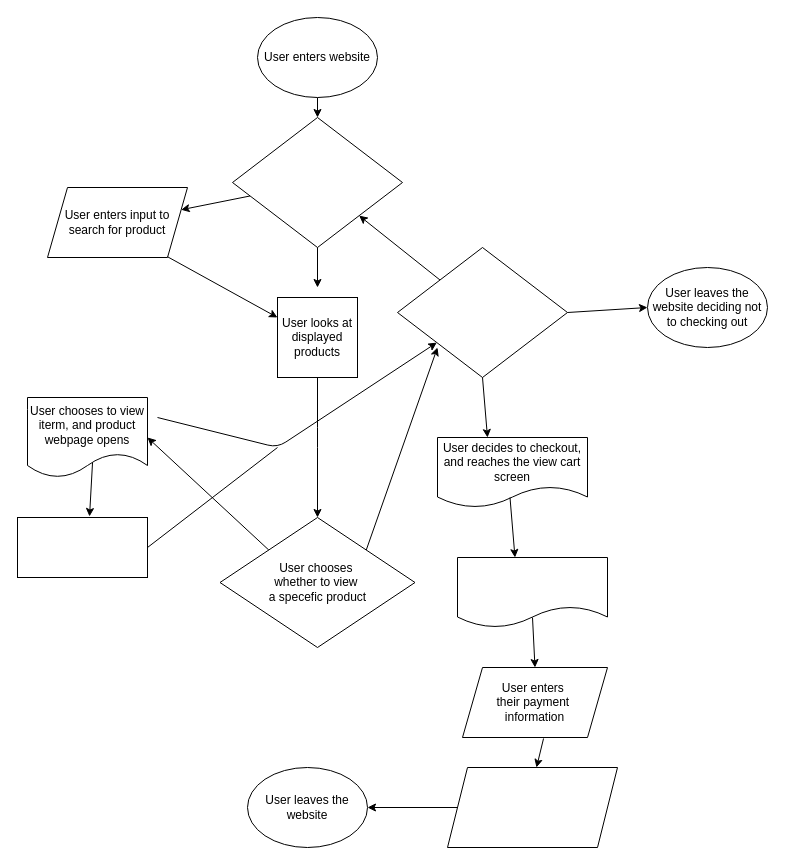
This 785x865 diagram has some shape labels left out. The centre of each missing label's shape, as x and y in pixels:
After paying, user sees an order confirmation screen and recieves an email: (x=532, y=807)
User adds item to cart: (x=82, y=547)
User chooses whether to continue shopping: (x=482, y=312)
User chooses whether to use search function: (x=317, y=182)
User proceeds to view payment screen: (x=532, y=592)
